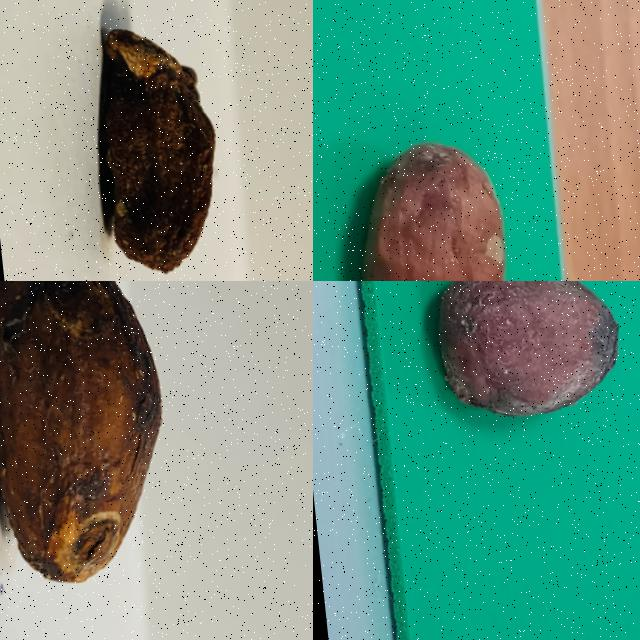Fine_cocoabeans: (0, 281, 210, 610), (386, 281, 639, 503), (313, 75, 550, 280)
Flat_cocoabeans: (22, 0, 268, 280)
